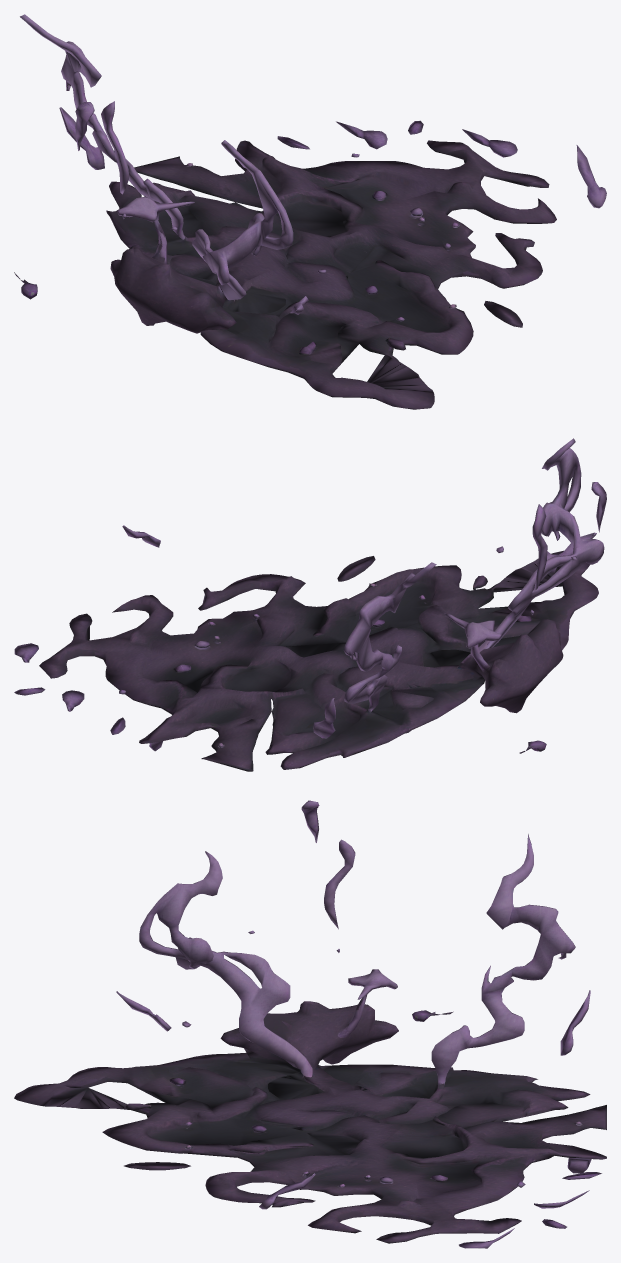
Rendered from SM_VFX_SmokeVortex_01.fbx.
3 views of the same model, one above another, from view 1: azimuth 30°, elevation 25°; view 2: azimuth 150°, elevation 25°; view 3: azimuth 270°, elevation 25° (orthographic). The views are drawn at different scales.
Parts seen in each view (by area): view 1: SM_VFX_SmokeVortex_01; view 2: SM_VFX_SmokeVortex_01; view 3: SM_VFX_SmokeVortex_01.
Boxes of the visible parts, box(x1,y1,x2,y2) form: SM_VFX_SmokeVortex_01: box(14, 14, 606, 409); SM_VFX_SmokeVortex_01: box(14, 438, 606, 771); SM_VFX_SmokeVortex_01: box(14, 800, 606, 1248).
Bounding box in the file's own units: 0.9434 × 0.4277 × 0.998.
1 material, 1 textured.
